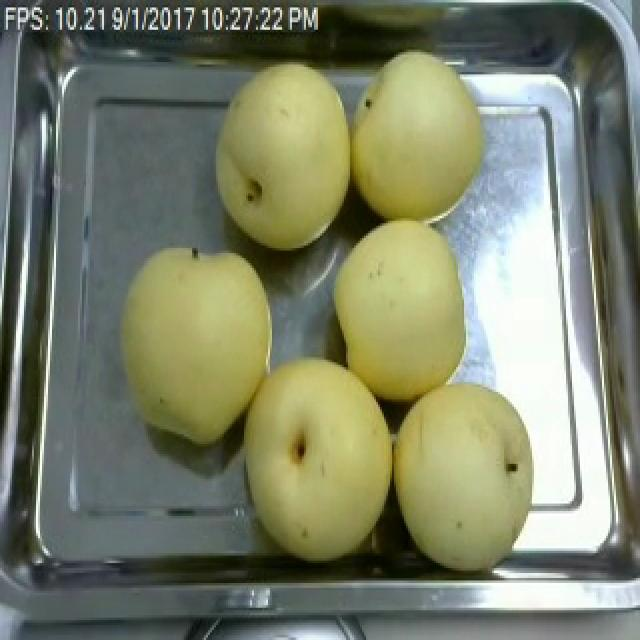Fruit: (230, 340, 396, 570), (110, 238, 284, 449), (388, 367, 552, 576), (322, 208, 480, 417), (206, 57, 356, 258), (346, 40, 494, 233)
